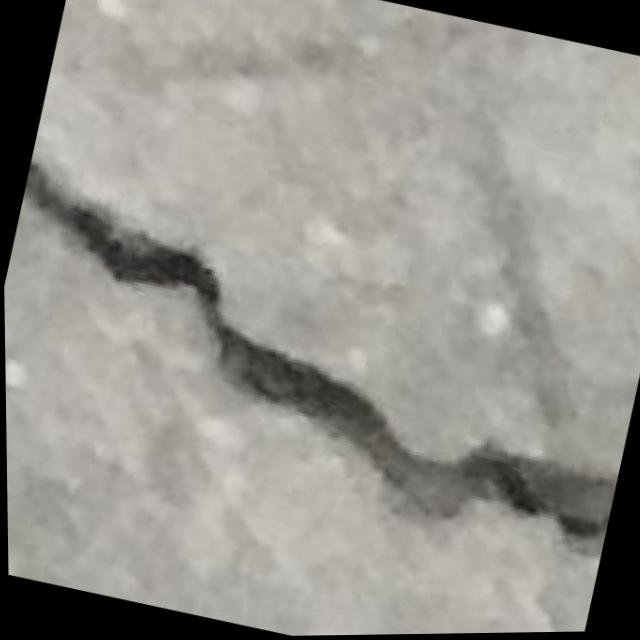Crack: (2, 127, 640, 570)
